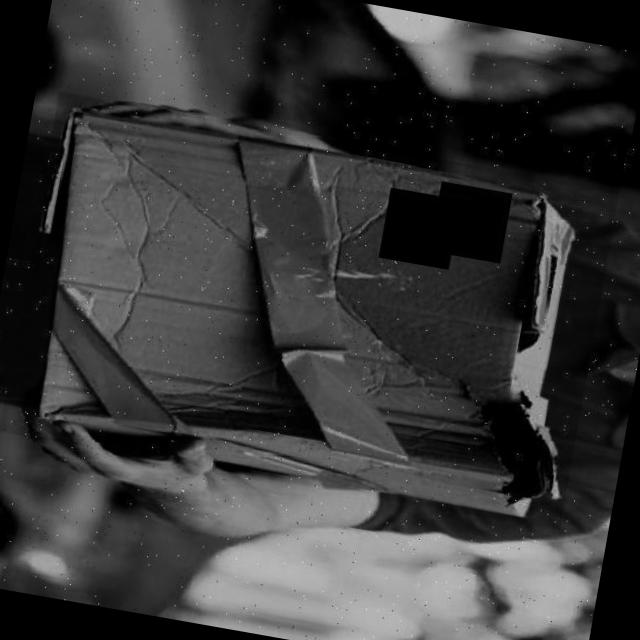box: (0, 91, 619, 530)
